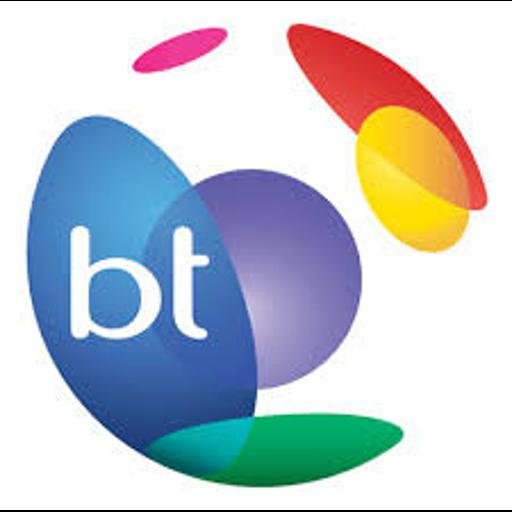BT Group plc: (0, 1, 512, 510)
